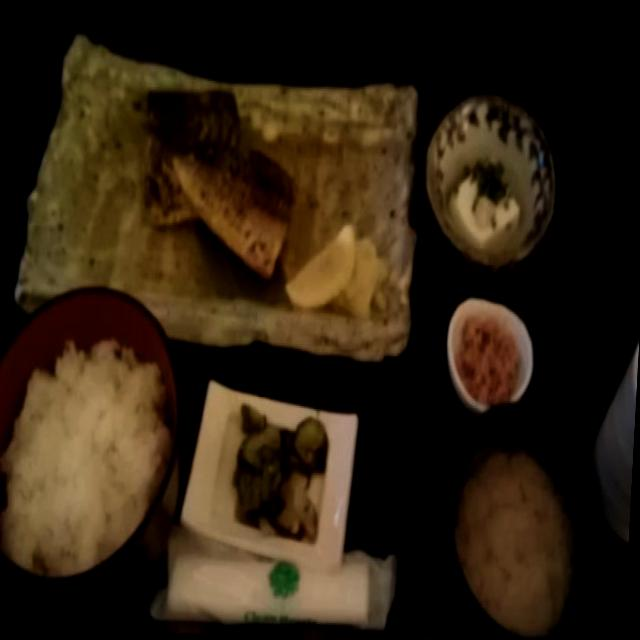Rice: (0, 329, 173, 581)
